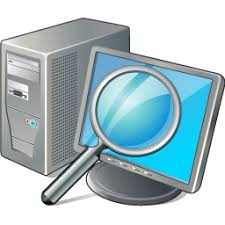searchIcon: (38, 63, 185, 207)
